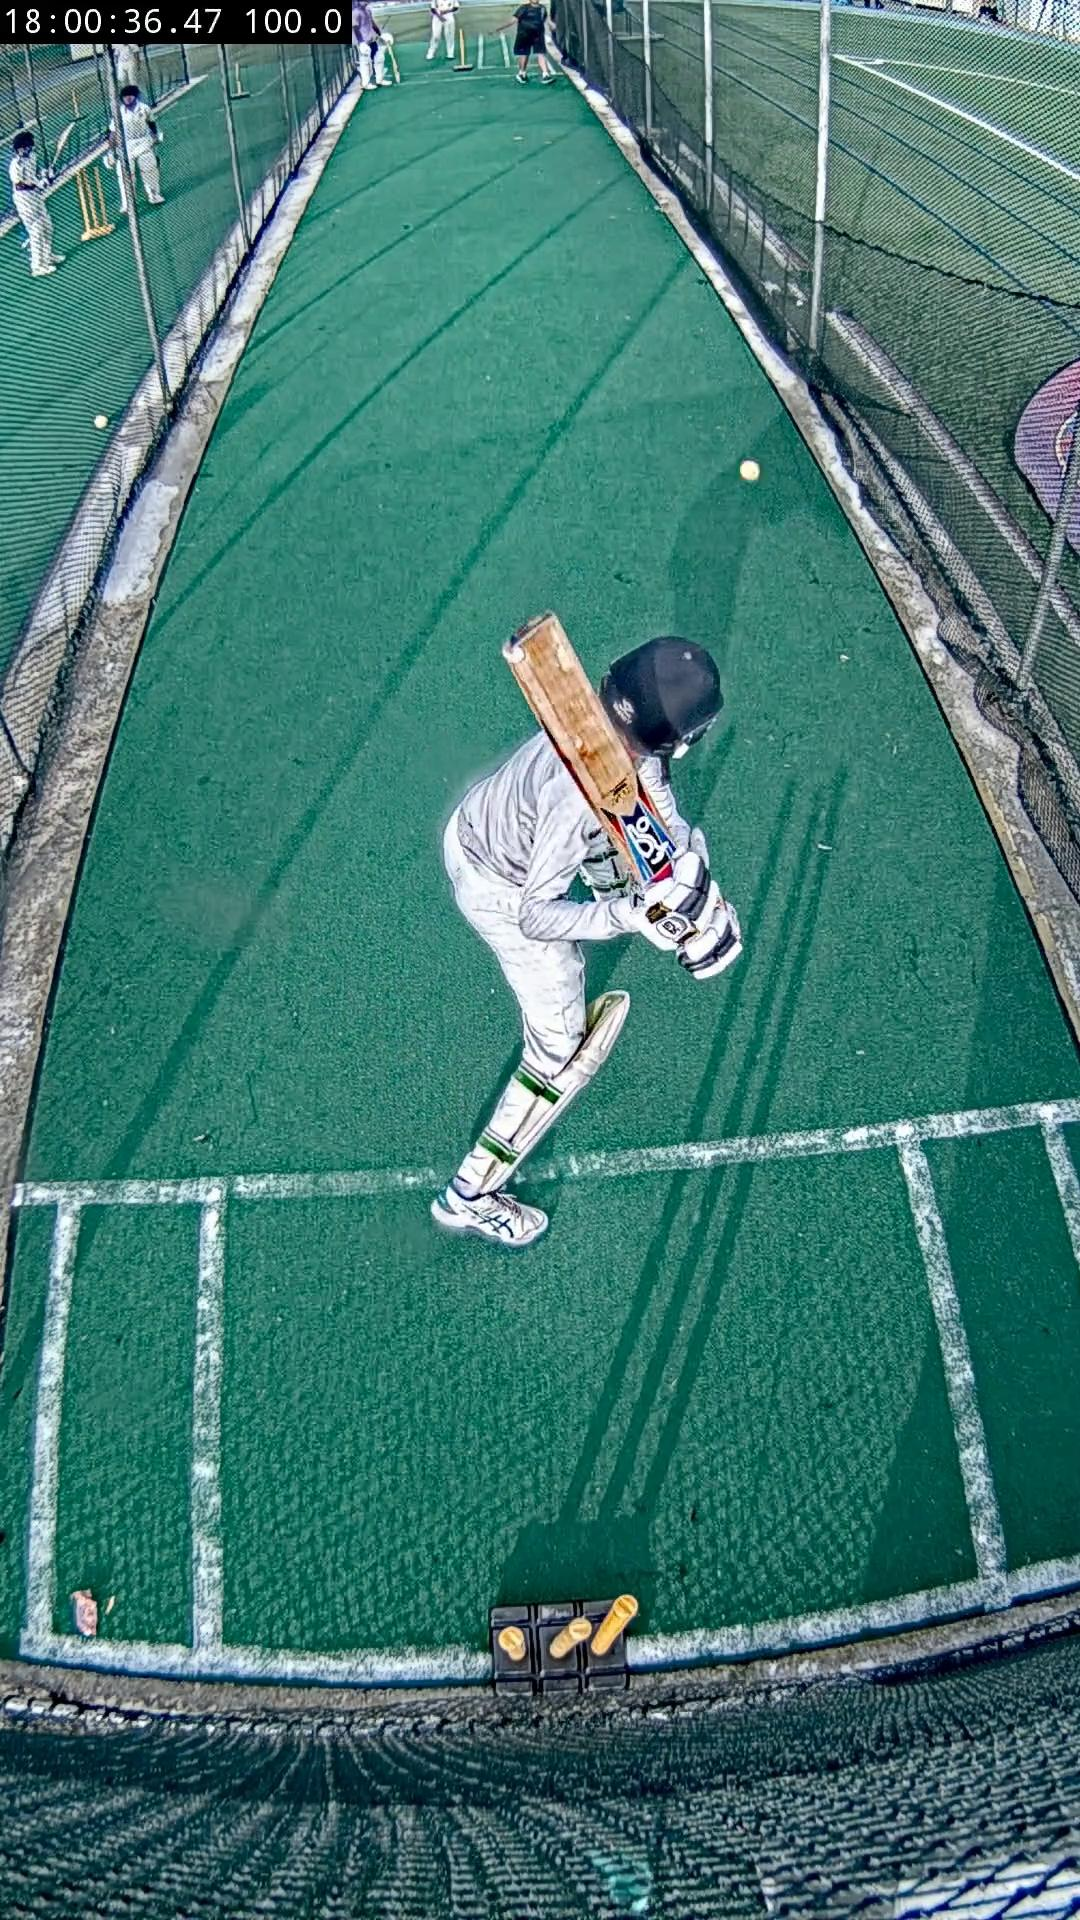ball: (738, 462, 761, 480)
bat: (502, 612, 675, 884)
gloves: (634, 852, 742, 978)
helmet: (600, 637, 724, 757)
pads: (514, 990, 630, 1156)
stumps: (492, 1594, 637, 1695)
